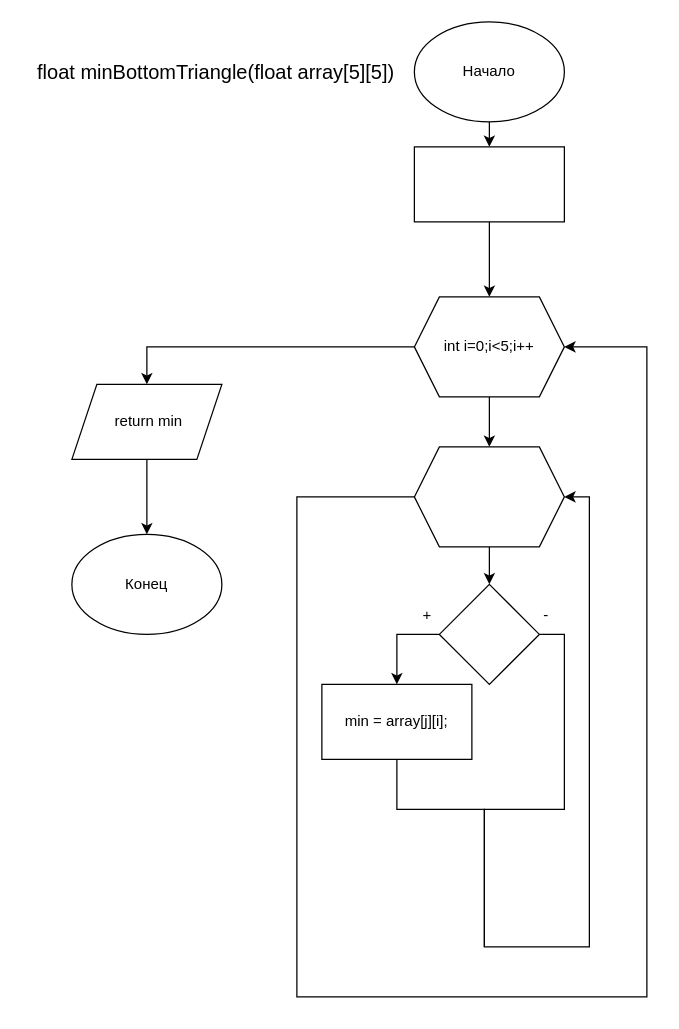
Image size: 679x1029. Some labels were removed from this diagram. Each missing label, with the centre of its shape:
"array[j][i]<min" goes at point (488, 633).
"int j=i+1;j<5;j++" goes at point (488, 496).
"min=array[0][0]" goes at point (488, 184).
